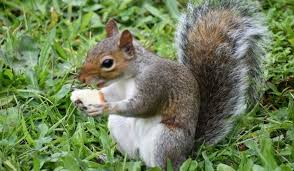squirrel: (75, 1, 263, 165)
